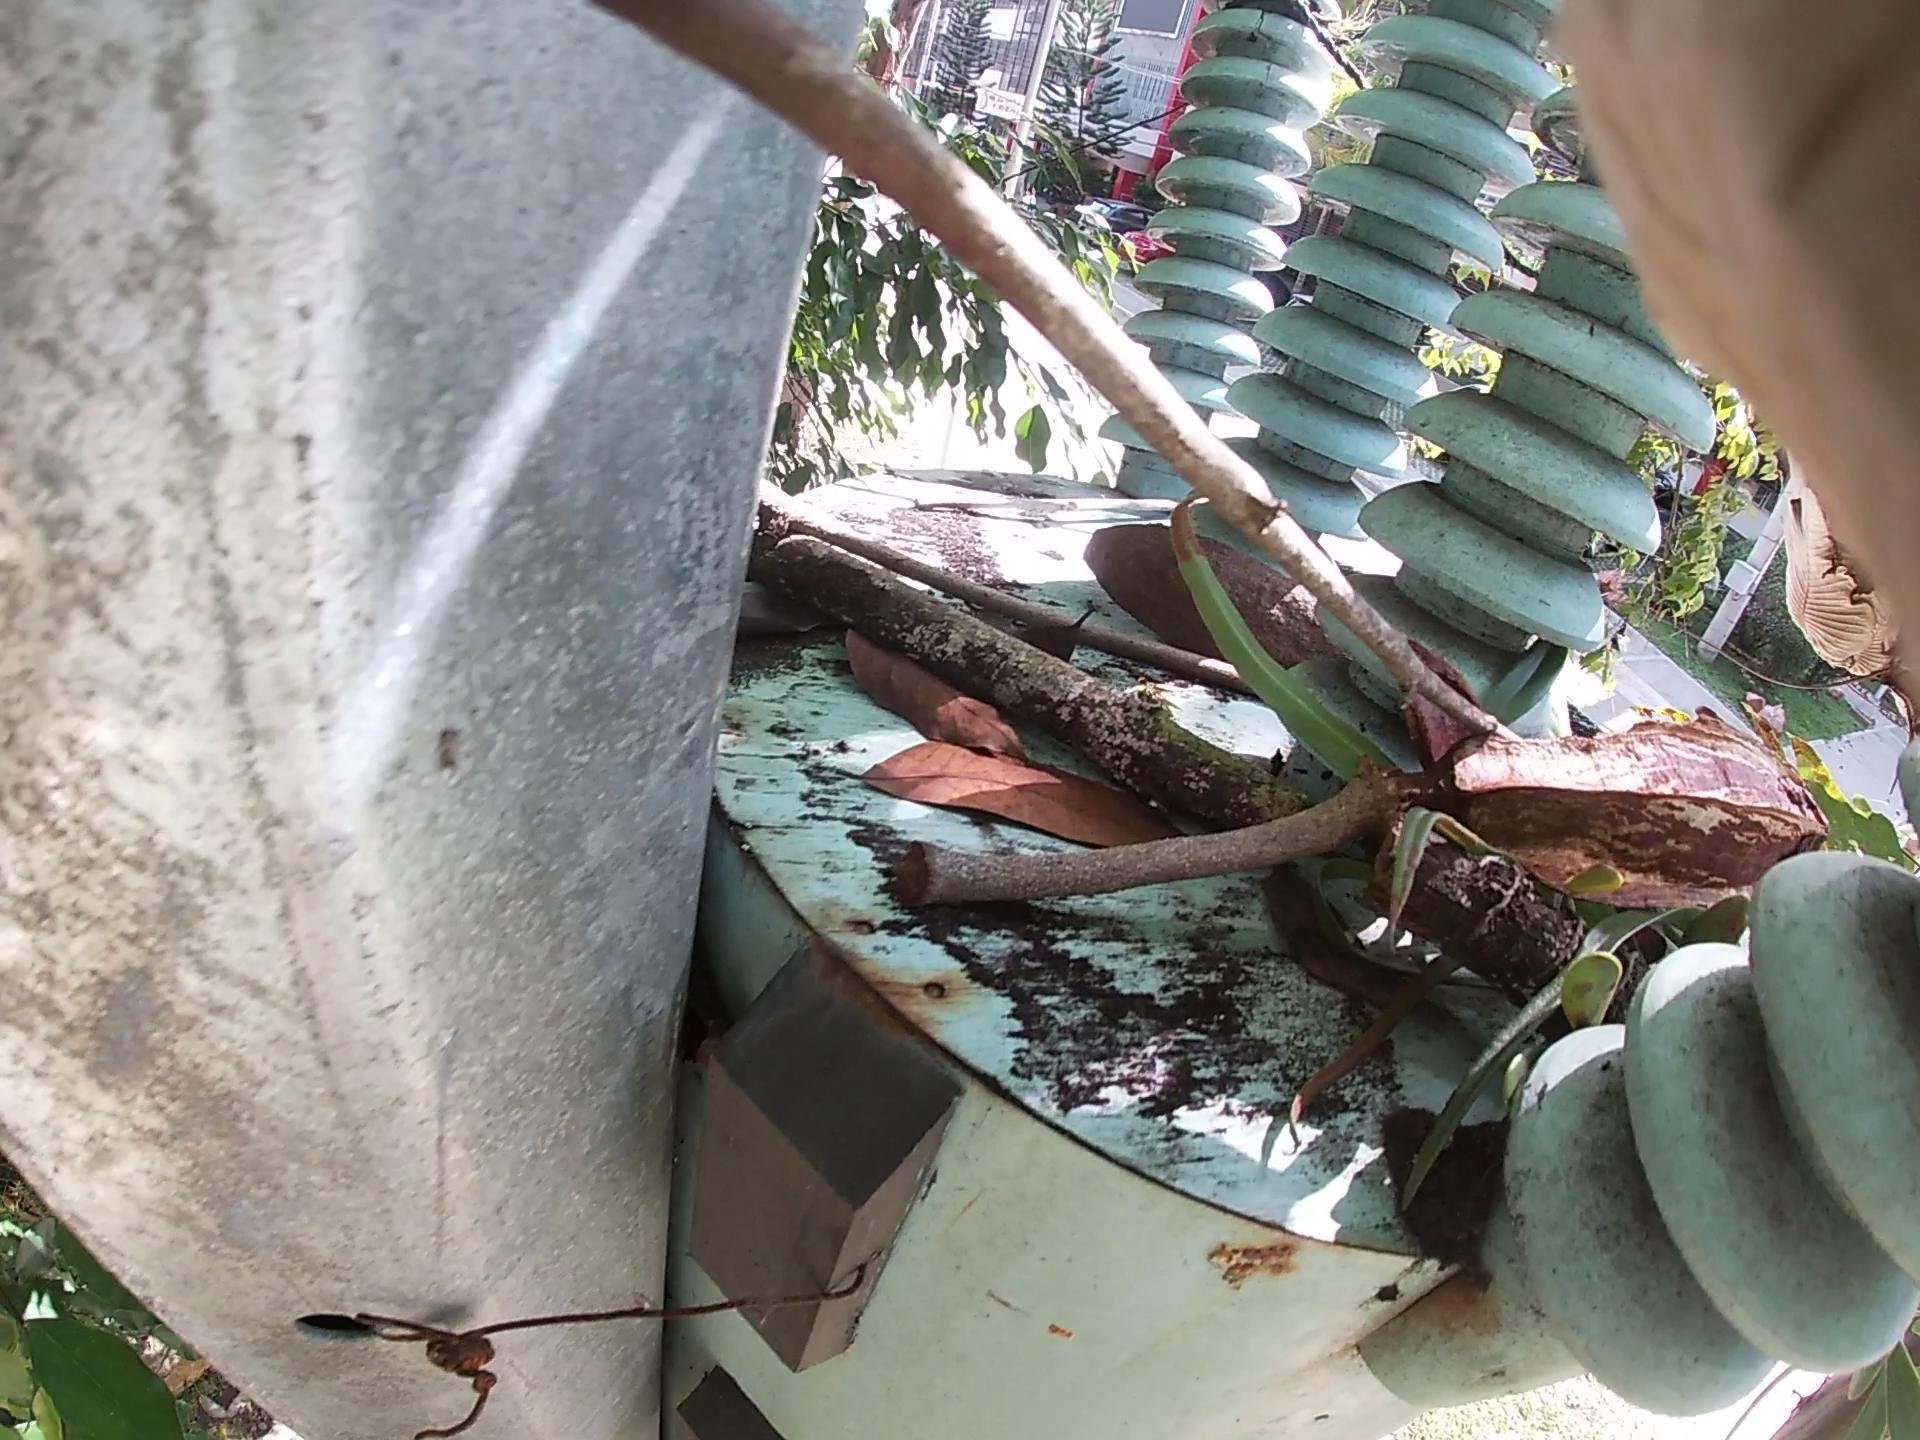branch with leaves: (705, 455, 1534, 929)
leaf: (862, 656, 1089, 849)
mahogany fruit: (1454, 702, 1875, 939), (1061, 476, 1392, 675)
tree branch: (705, 5, 1358, 470), (813, 473, 1294, 712), (931, 756, 1388, 954)
